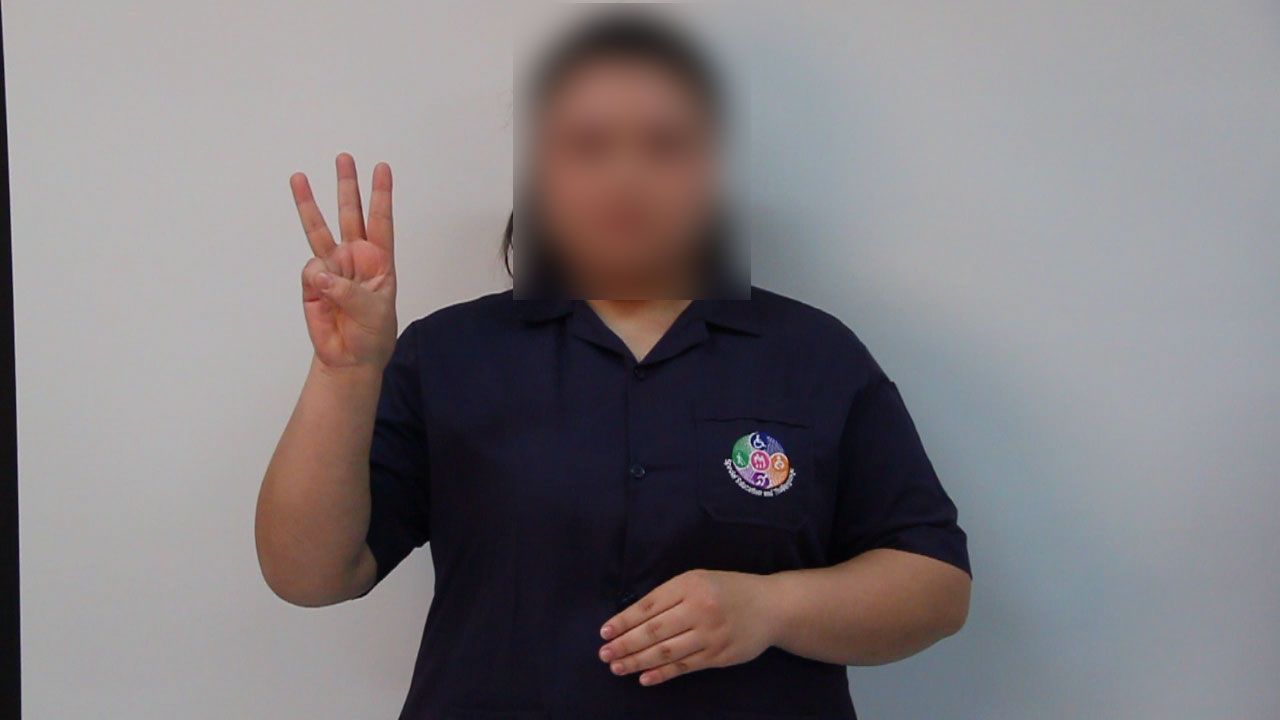wor: (283, 146, 406, 378)
